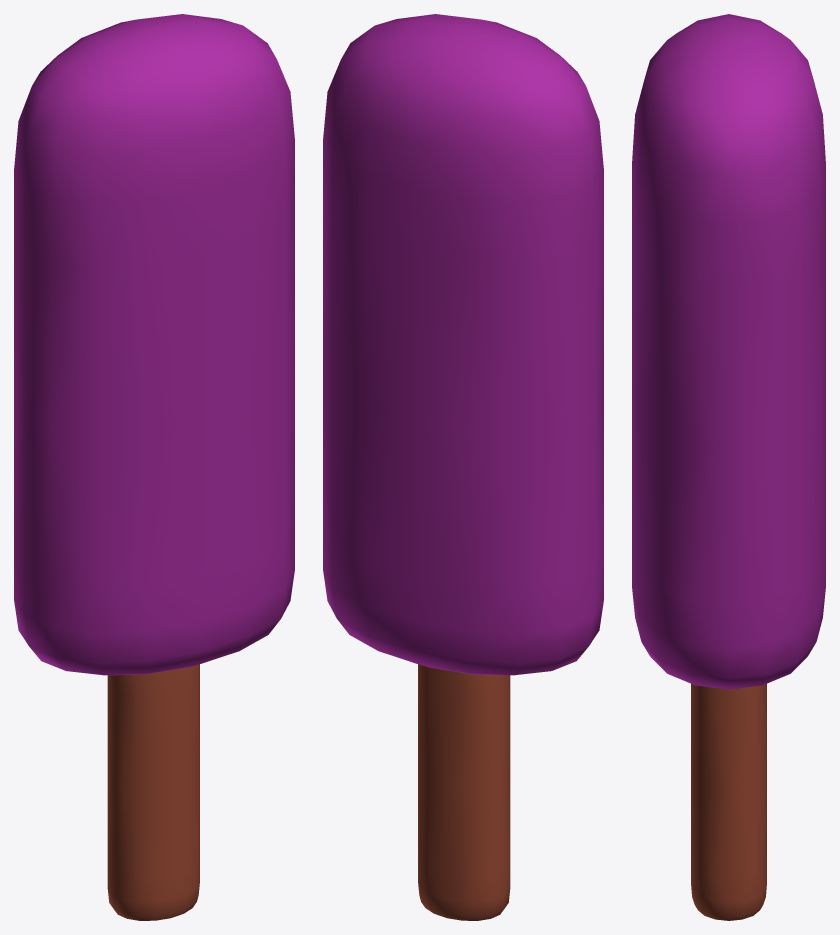
File: Ice cream on the stick.fbx
The picture shows the model from 3 angles, left to right: view 1: azimuth 30°, elevation 25°; view 2: azimuth 150°, elevation 25°; view 3: azimuth 270°, elevation 25°; orthographic projection.
Parts seen in each view (by area): view 1: Cube; view 2: Cube; view 3: Cube.
Part boxes in pixels (left/top/right/bottom): Cube: left=14, top=14, right=294, bottom=920; Cube: left=323, top=14, right=603, bottom=920; Cube: left=632, top=14, right=825, bottom=920.
Bounding box in the file's own units: 85.25 × 277 × 56.05.
